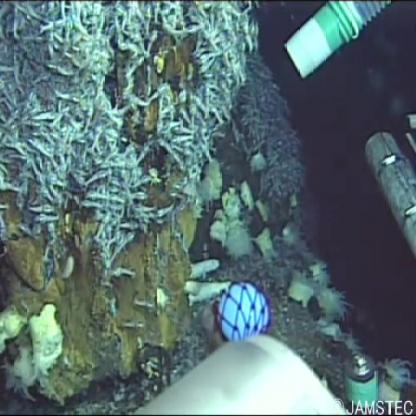Bio: (1, 1, 256, 243), (180, 254, 232, 305)
Rov: (120, 281, 346, 416), (282, 1, 392, 82)
